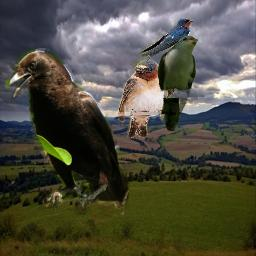Crow: (5, 48, 129, 215)
Cuckoo: (157, 35, 198, 131)
Swallow: (118, 59, 174, 138), (131, 18, 194, 70)
